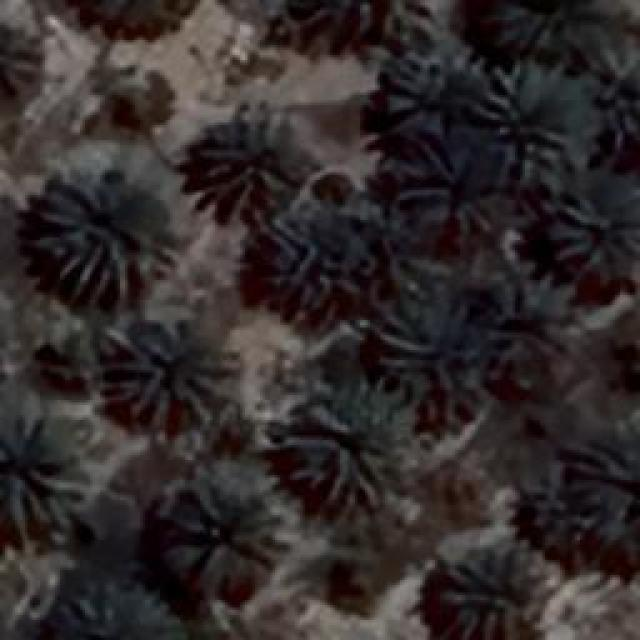PalmTree: (24, 67, 605, 485), (29, 160, 182, 300), (511, 429, 639, 579), (282, 375, 410, 510), (102, 320, 240, 430), (175, 462, 295, 576), (380, 292, 482, 426), (252, 210, 370, 308), (190, 110, 295, 215), (398, 130, 498, 235), (0, 410, 85, 532), (382, 42, 496, 130), (490, 60, 570, 185), (63, 52, 175, 140), (442, 542, 540, 638), (484, 275, 578, 363), (547, 185, 635, 278), (55, 580, 183, 635), (578, 42, 638, 140), (52, 0, 196, 39), (304, 0, 418, 49), (497, 0, 595, 54)
